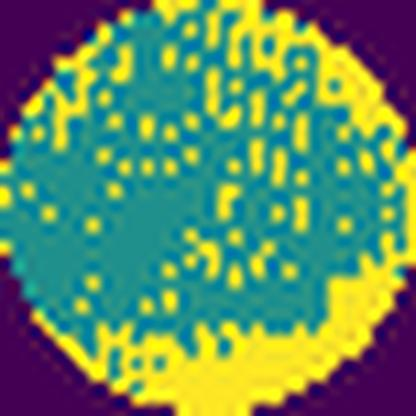Edge-Loc: (32, 151, 415, 416), (146, 0, 415, 139)
